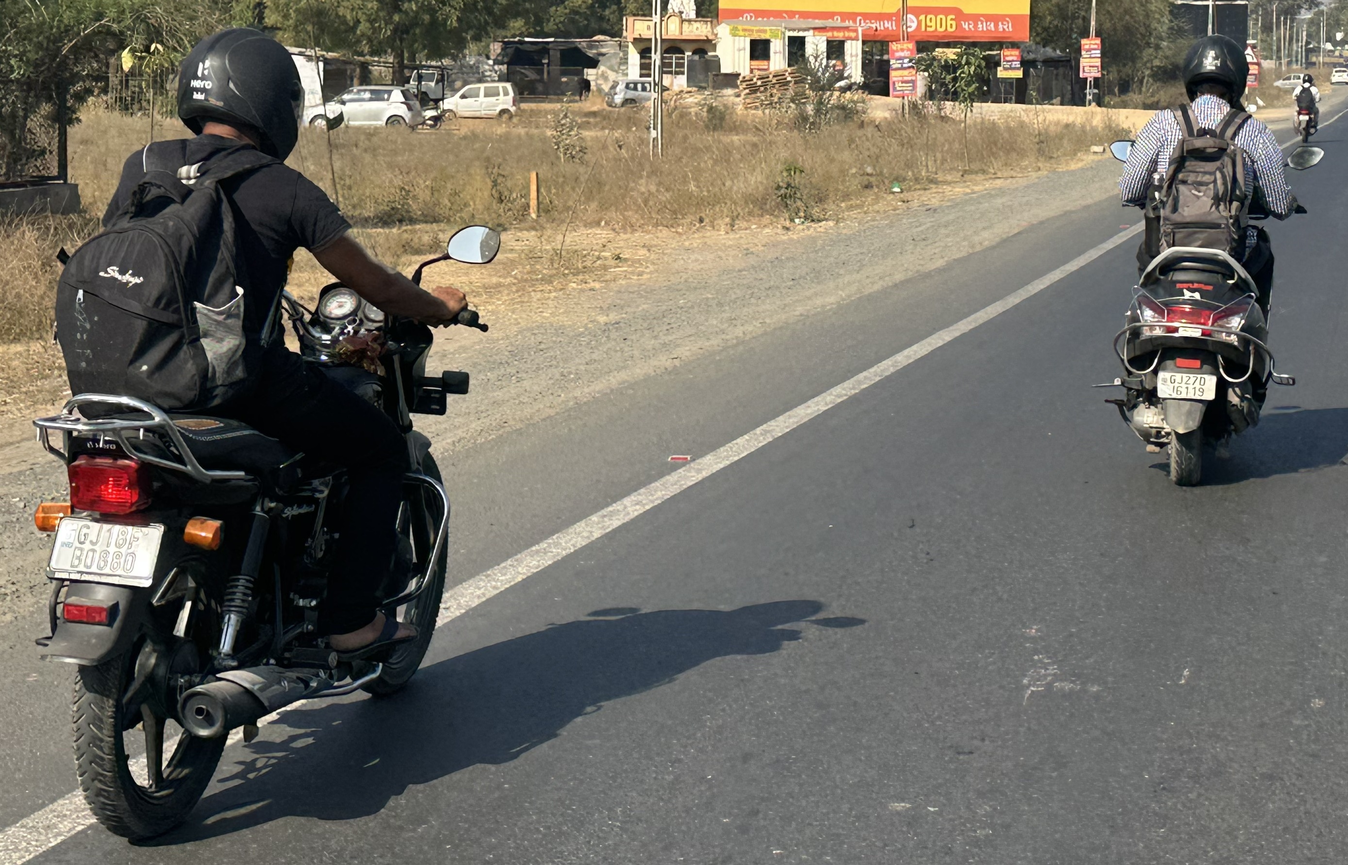BikeWithRider: (33, 25, 504, 843), (1096, 30, 1323, 490), (1291, 68, 1323, 143)
Helmet: (167, 27, 316, 164), (1181, 25, 1255, 102)
